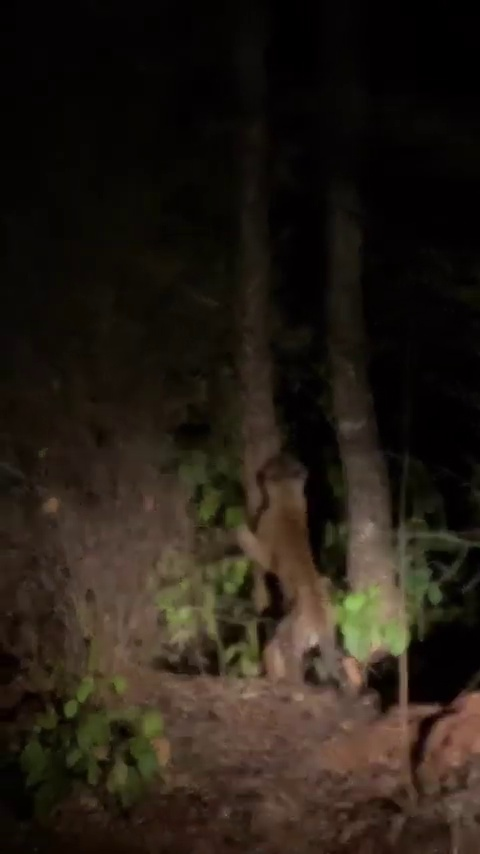Tiger: (223, 450, 383, 692)
